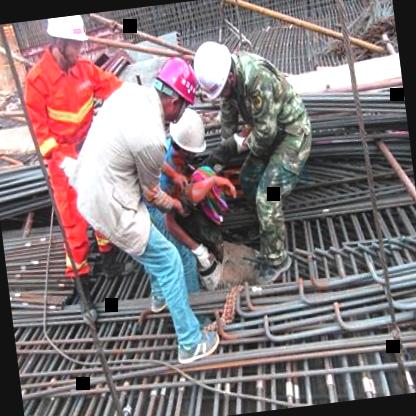helmet: (186, 33, 244, 108), (146, 52, 201, 124), (167, 104, 214, 168), (43, 13, 92, 68)
